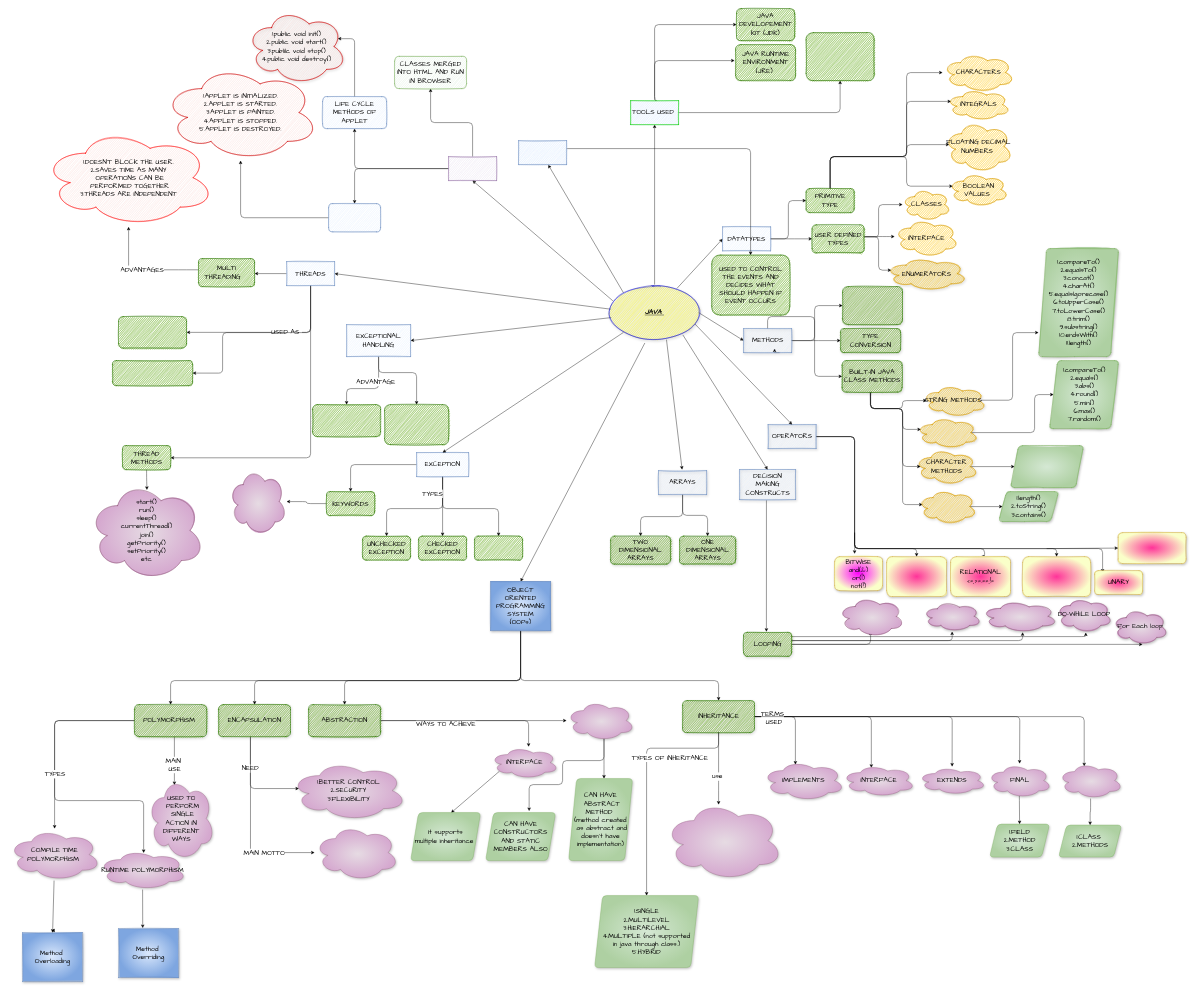
Image size: 1196x992. Some labels were removed from this diagram. The centre of each missing label's shape, as x and y in pixels:
1.isLetter() 2.isDigit() 3.isLowerCase() 4.isUpperCase(): point 1047,467
1.try 2.catch 3.finally 4.throw 5.throws: point 257,501
ABSTRACT: point 1091,781
ABSTRACT CLASSES: point 601,721
ARITHEMATICAL +,-,*,/: point 1152,548
ARRAY METHODS: point 948,507
ASSIGNMENT =: point 1057,577
COMBINING DATA AND THEIR METHODS: point 357,853
EDITORS AND INTEGRATED DEVELOPEMENT ENVIRONMENT (IDEs): point 840,56
ERROR: point 498,548
EVENT HANDLING: point 542,152
FOR LOOP: point 952,616
FOR METHOD OVERRIDING (so that runtime polymorphism can be achieved): point 724,841
IF ELSE CONDITIONS: point 871,616
JAVA APPLETS: point 472,168
LIFECYCLE OF APPLET: point 354,217
LOGICAL and(&&) or(||) not(!): point 917,577
MECHANISM TO HANDLE THE RUNTIME ERRORS: point 416,424
NUMBER METHODS: point 948,433
PASSING AND RETURNING ARGUMENTS: point 873,306
SYNCHRONIZATION: point 152,373
THREAD BASED MULTITASKING: point 152,332
TO MAINTAIN THE FLOW OF APPLICATION: point 346,420
WHILE LOOP: point 1020,616
